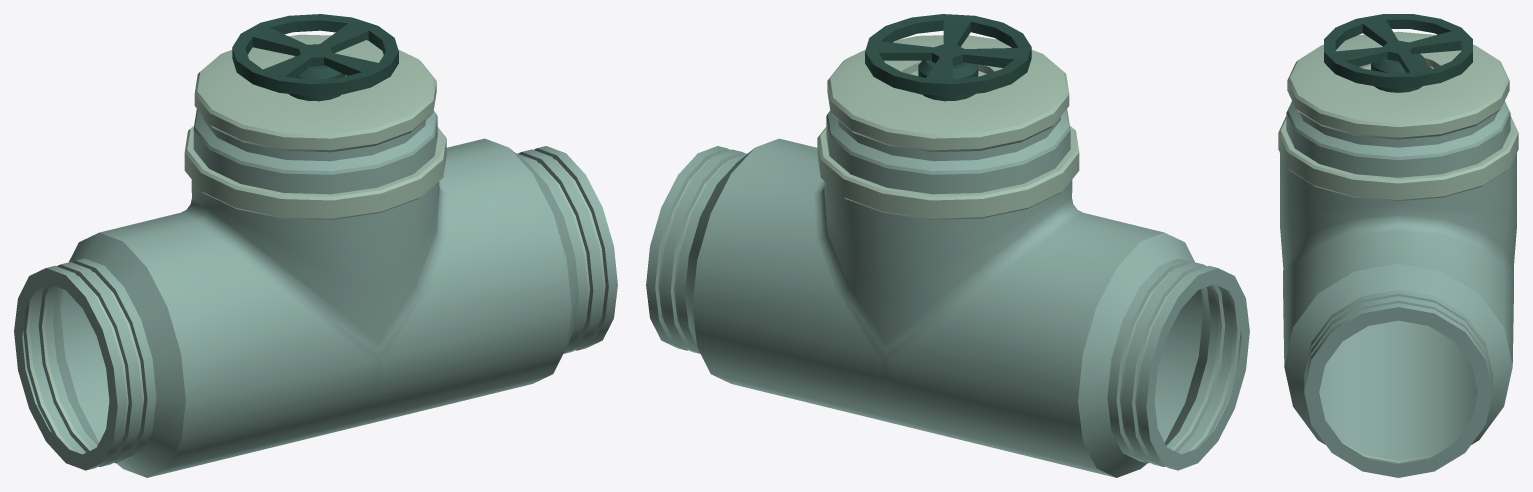
The model's file is PipeLarge_Valve.fbx.
3 views of the same model, side by side, from view 1: azimuth 30°, elevation 25°; view 2: azimuth 150°, elevation 25°; view 3: azimuth 270°, elevation 25° (orthographic). The views are drawn at different scales.
Parts seen in each view (by area): view 1: PipeLarge_Valve.001; view 2: PipeLarge_Valve.001; view 3: PipeLarge_Valve.001.
Boxes of the visible parts, x1,y1,x2,y2 form: PipeLarge_Valve.001: (14,14,617,477); PipeLarge_Valve.001: (646,14,1249,477); PipeLarge_Valve.001: (1278,14,1518,477).
Bounding box in the file's own units: 0.609 × 0.4338 × 0.2785.
